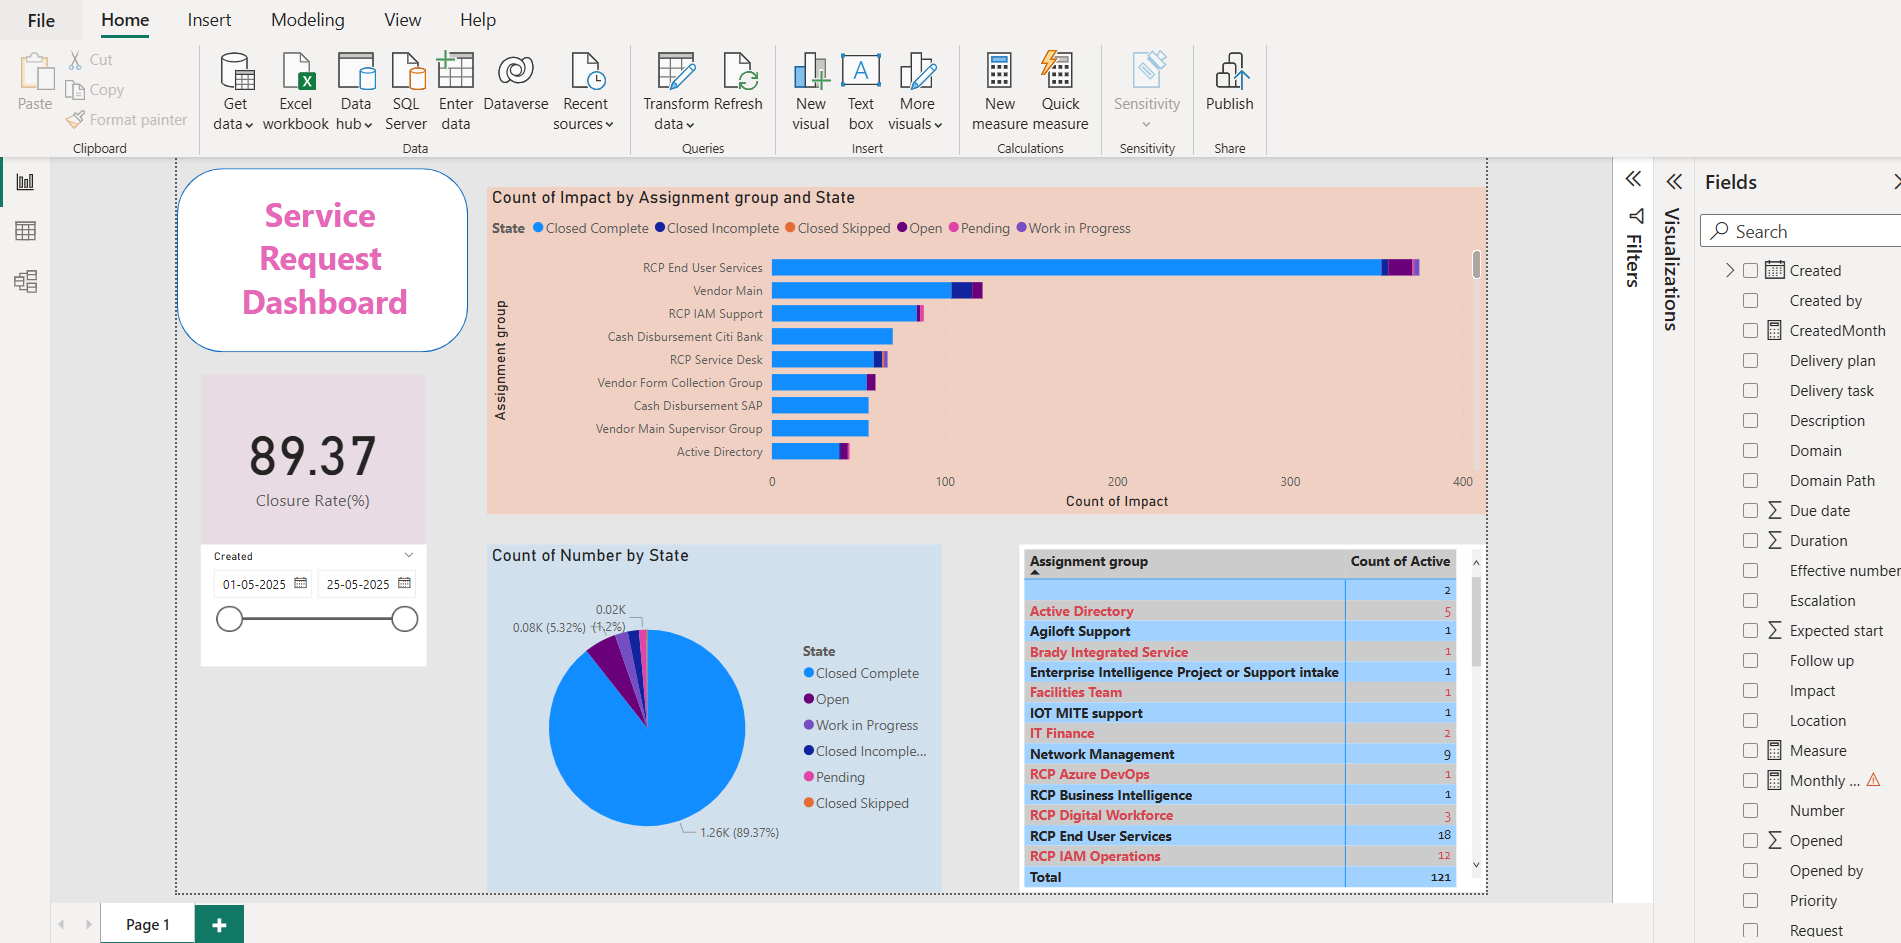

This screenshot's page, from the dashboard's own definition file:
{"tool":"powerbi","page":{"name":"Page 1","canvas":[1280,720],"ordinal":0},"visuals":[{"type":"barChart","fields":{"Category":["Page 1.Assignment group"],"Y":["CountNonNull(Page 1.Impact)"],"Series":["Page 1.State"]},"box":[303.1,29.7,977.2,320.1],"z":0},{"type":"pivotTable","fields":{"Rows":["Page 1.Assignment group"],"Values":["CountNonNull(Page 1.Active)"]},"box":[824.3,379.6,456,339.9],"z":1000},{"type":"card","fields":{"Values":["Page 1.Closure Rate(%)"]},"box":[22.7,212.4,219.5,167.1],"z":2000},{"type":"shape","box":[0,11.3,284.7,179.9],"z":2001},{"type":"textbox","box":[22.7,29.7,233.7,143],"z":2002},{"type":"pieChart","fields":{"Category":["Page 1.State"],"Y":["Count(Page 1.Number)"]},"box":[303.1,379.6,444.7,339.9],"z":2003},{"type":"slicer","fields":{"Values":["Page 1.Created"]},"box":[22.7,379.6,220.9,119],"z":2004}]}

Visuals, with their boxes on the page's 1280x720 design canvas (x1, y1, x2, y2). These are canvas units, not pixel positions in the 1901x943 screenshot, which may show the page scaled, cropped or inside an application window:
barChart - Page 1.Assignment group x CountNonNull(Page 1.Impact): (x1=303, y1=30, x2=1280, y2=350)
pivotTable - Page 1.Assignment group x CountNonNull(Page 1.Active): (x1=824, y1=380, x2=1280, y2=720)
card - Page 1.Closure Rate(%): (x1=23, y1=212, x2=242, y2=380)
shape: (x1=0, y1=11, x2=285, y2=191)
textbox: (x1=23, y1=30, x2=256, y2=173)
pieChart - Page 1.State x Count(Page 1.Number): (x1=303, y1=380, x2=748, y2=720)
slicer - Page 1.Created: (x1=23, y1=380, x2=244, y2=499)
